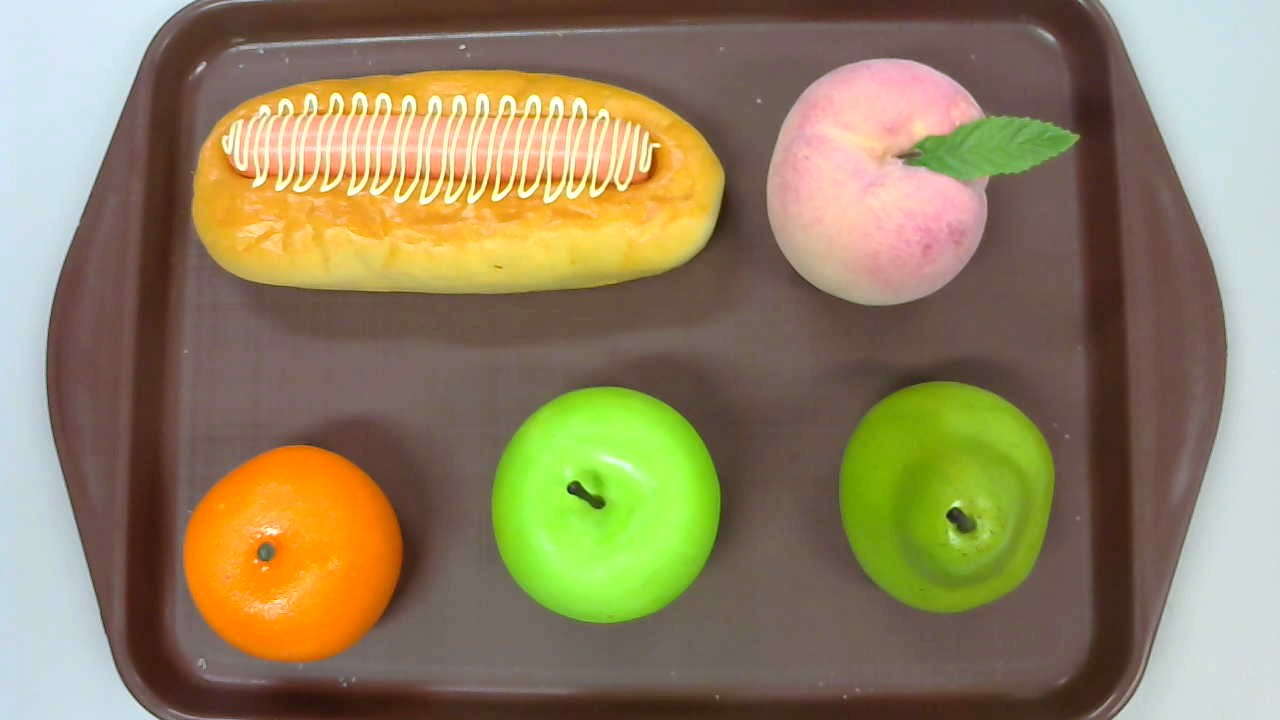green apple: (490, 386, 722, 624)
green pear: (837, 379, 1053, 615)
hot dog: (191, 69, 726, 297)
orange: (183, 445, 403, 663)
peaches: (766, 57, 1080, 307)
